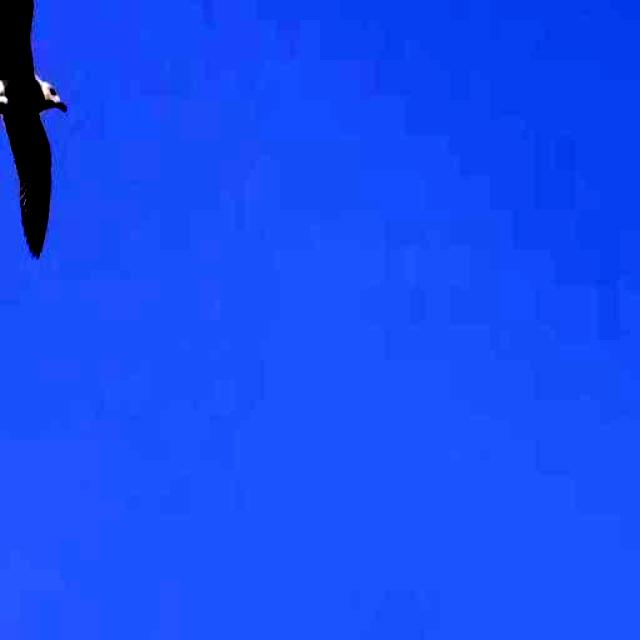airplane: (0, 0, 72, 266)
